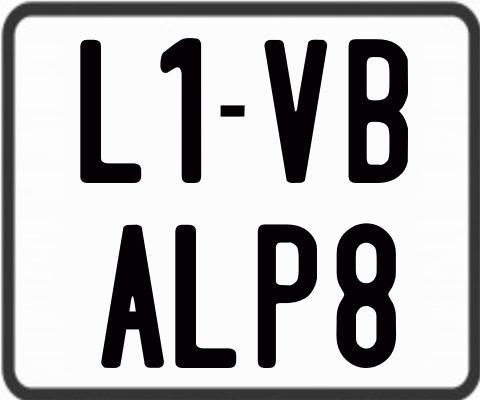1: (159, 35, 200, 184)
8: (333, 223, 393, 370)
A: (100, 225, 165, 370)
B: (347, 37, 410, 186)
L: (174, 225, 241, 372), (79, 37, 145, 184)
P: (258, 224, 317, 371)
V: (261, 38, 327, 185)
